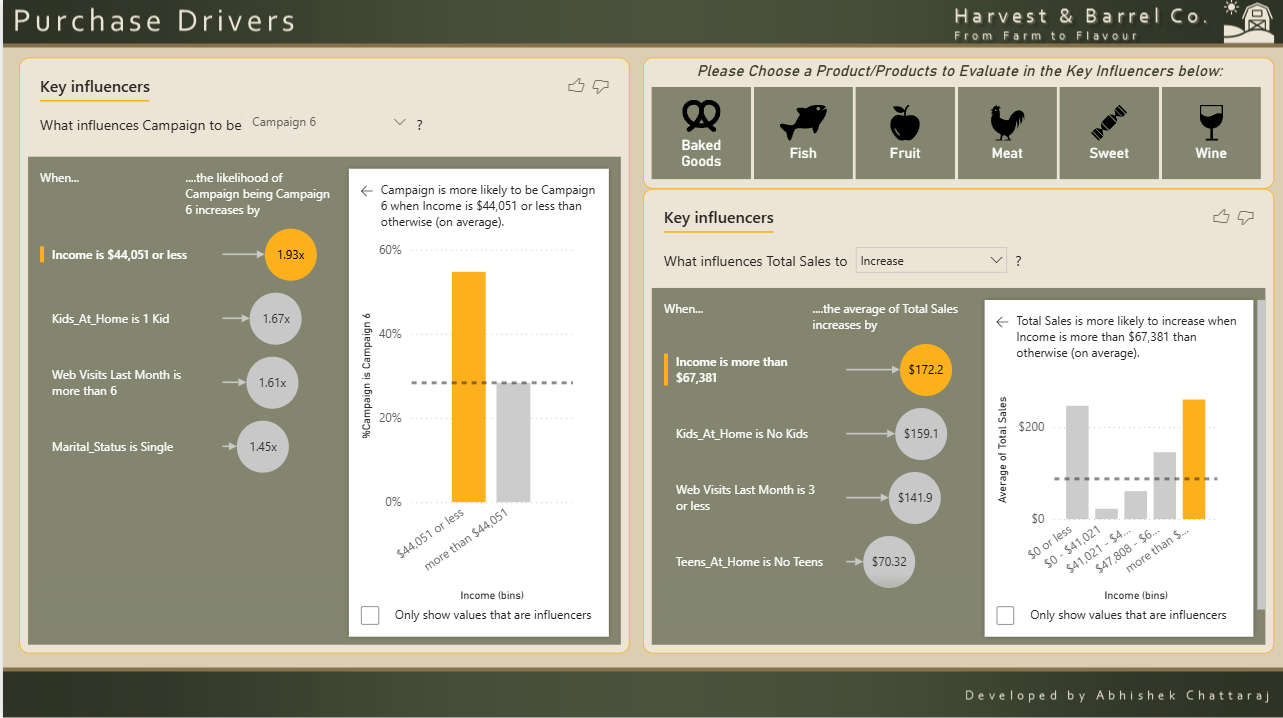

This screenshot's page, from the dashboard's own definition file:
{"tool":"powerbi","page":{"name":"Purchase Drivers","canvas":[1280,720],"ordinal":2},"visuals":[{"type":"keyDriversVisual","fields":{"Target":["Campaign.Campaign"],"ExplainBy":["Sum(marketmindz_research_data.Age)","Sum(marketmindz_research_data. Income )","marketmindz_research_data.Country","marketmindz_research_data.Education","marketmindz_research_data.Marital_Status","Sum(marketmindz_research_data.Kids_At_Home)","Sum(marketmindz_research_data.Teens_At_Home)","Sum(marketmindz_research_data.Web Visits Last Month)"]},"box":[16.2,57.5,610,596.2],"z":0},{"type":"keyDriversVisual","fields":{"ExplainBy":["Sum(marketmindz_research_data.Age)","Sum(marketmindz_research_data. Income )","marketmindz_research_data.Country","marketmindz_research_data.Education","marketmindz_research_data.Marital_Status","Sum(marketmindz_research_data.Kids_At_Home)","Sum(marketmindz_research_data.Teens_At_Home)","Sum(marketmindz_research_data.Web Visits Last Month)"],"Target":["Products.Total Sales"]},"box":[640,188.8,631.2,465],"z":1000},{"type":"advancedSlicerVisual","title":"Please Choose a Product/Products to Evaluate in the Key Influencers below:","fields":{"Values":["Products.Product"]},"box":[640,57.5,631.2,131.2],"z":2000}]}

Visuals, with their boxes in screenshot pixels (x1, y1, x2, y2), scaled from the page's 1280x720 canvas onto the 1283x718 screenshot:
keyDriversVisual - Campaign.Campaign x Sum(marketmindz_research_data.Age): bbox=[16, 57, 628, 652]
keyDriversVisual - Sum(marketmindz_research_data.Age) x Sum(marketmindz_research_data. Income ): bbox=[642, 188, 1274, 652]
"Please Choose a Product/Products to Evaluate in the Key Influencers below:" advancedSlicerVisual: bbox=[642, 57, 1274, 188]
